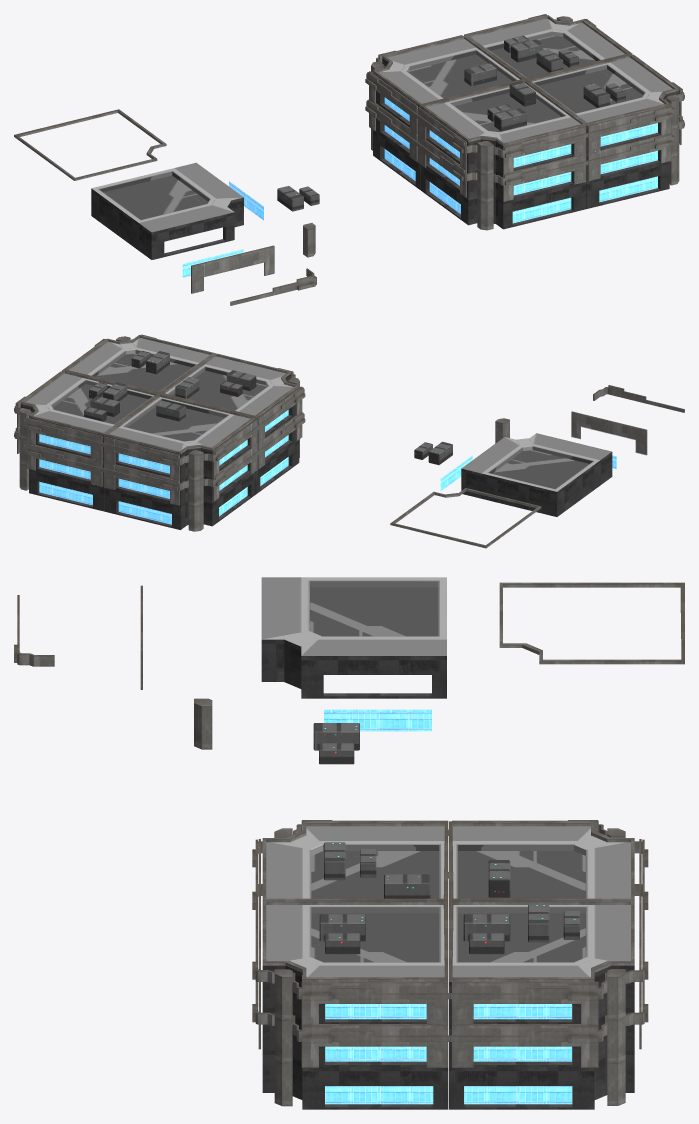
The model's file is SciFi_a.fbx.
3 renders of one model, top to bottom at view 1: azimuth 30°, elevation 25°; view 2: azimuth 150°, elevation 25°; view 3: azimuth 270°, elevation 25°, orthographic. The views are drawn at different scales.
Visible parts, largest first — view 1: Cube.018_Cube.052, Cube.032_Cube.065, Cube.017_Cube.051, Cube.025_Cube.055, Cube.023_Cube.030, Cube.026_Cube.062, Cube.028_Cube.058, Cube.021_Cube.053, Cube.031_Cube.064, Cube.034_Cube.069, Cube.036_Cube.071, Cube.037_Cube.072 (+4 smaller); view 2: Cube.032_Cube.065, Cube.018_Cube.052, Cube.017_Cube.051, Cube.027_Cube.063, Cube.023_Cube.030, Cube.026_Cube.062, Cube.028_Cube.058, Cube.031_Cube.064, Cube.021_Cube.053, Cube.036_Cube.071, Cube.034_Cube.069, Cube.024_Cube.061 (+4 smaller); view 3: Cube.032_Cube.065, Cube.018_Cube.052, Cube.017_Cube.051, Cube.024_Cube.061, Cube.023_Cube.030, Cube.028_Cube.058, Cube.021_Cube.053, Cube.031_Cube.064, Cube.027_Cube.063, Cube.025_Cube.055, Cube.035_Cube.070, Cube.040_Cube.075 (+7 smaller).
Boxes of the visible parts, box(x1,y1,x2,y2) form: Cube.018_Cube.052: box(421, 57, 678, 229); Cube.032_Cube.065: box(373, 18, 624, 190); Cube.017_Cube.051: box(91, 162, 243, 259); Cube.025_Cube.055: box(493, 99, 674, 201); Cube.023_Cube.030: box(14, 109, 319, 305); Cube.026_Cube.062: box(365, 71, 477, 197); Cube.028_Cube.058: box(371, 16, 679, 230); Cube.021_Cube.053: box(421, 54, 678, 145); Cube.031_Cube.064: box(373, 15, 630, 107); Cube.034_Cube.069: box(494, 108, 526, 131); Cube.036_Cube.071: box(464, 63, 496, 86); Cube.037_Cube.072: box(511, 39, 543, 62); Cube.032_Cube.065: box(20, 373, 255, 529); Cube.018_Cube.052: box(69, 338, 299, 494); Cube.017_Cube.051: box(461, 433, 612, 516); Cube.027_Cube.063: box(23, 412, 188, 505); Cube.023_Cube.030: box(390, 385, 684, 548); Cube.026_Cube.062: box(203, 386, 305, 501); Cube.028_Cube.058: box(19, 336, 299, 531); Cube.031_Cube.064: box(20, 370, 255, 454); Cube.021_Cube.053: box(64, 335, 299, 418); Cube.036_Cube.071: box(156, 400, 185, 421); Cube.034_Cube.069: box(226, 370, 256, 391); Cube.024_Cube.061: box(14, 339, 106, 453); Cube.032_Cube.065: box(449, 826, 634, 1109); Cube.018_Cube.052: box(262, 825, 448, 1109); Cube.017_Cube.051: box(261, 577, 446, 698); Cube.024_Cube.061: box(293, 972, 607, 1067); Cube.023_Cube.030: box(14, 582, 684, 764); Cube.028_Cube.058: box(274, 828, 625, 1106); Cube.021_Cube.053: box(262, 821, 448, 981); Cube.031_Cube.064: box(449, 821, 634, 981); Cube.027_Cube.063: box(625, 839, 648, 1049); Cube.025_Cube.055: box(252, 839, 292, 1049); Cube.035_Cube.070: box(384, 874, 430, 898); Cube.040_Cube.075: box(463, 914, 510, 941).
Size of the model in its own units: 289 by 46.45 by 200.
